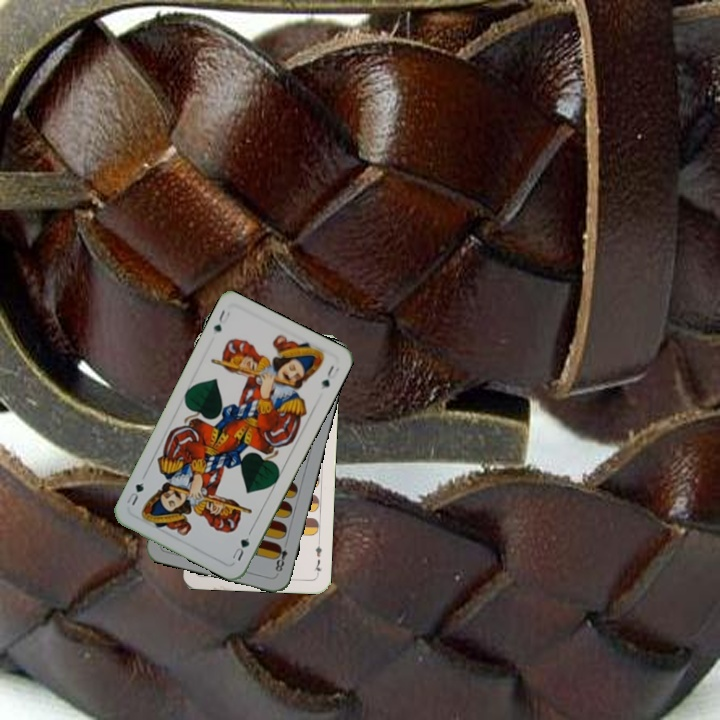E7: (310, 537, 324, 578)
E8: (271, 537, 290, 577)
GU: (228, 533, 252, 564), (209, 306, 231, 334)
